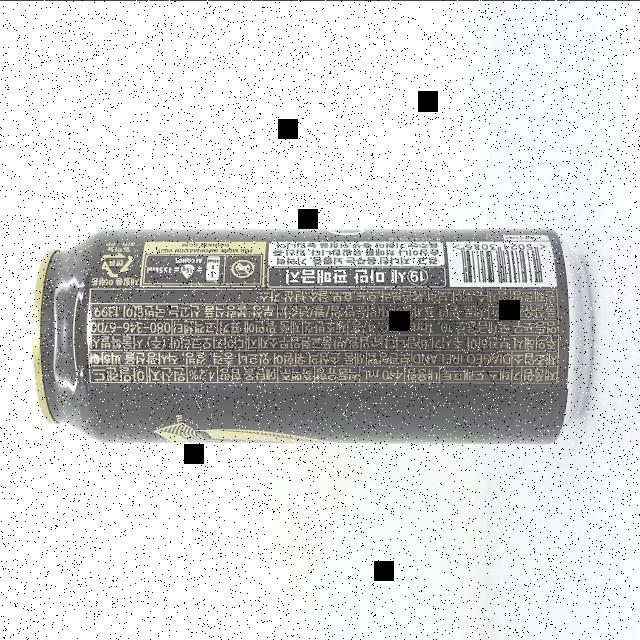can: (31, 228, 592, 444)
